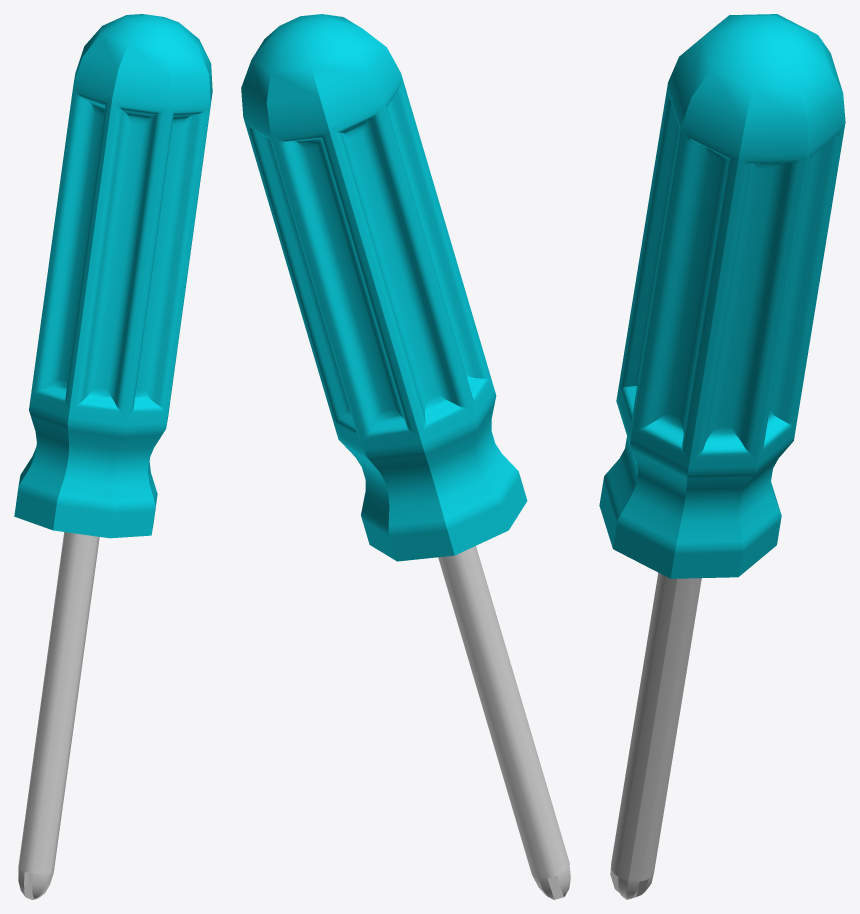
3 views of the same model, side by side, from view 1: azimuth 30°, elevation 25°; view 2: azimuth 150°, elevation 25°; view 3: azimuth 270°, elevation 25° (orthographic). The views are drawn at different scales.
Parts seen in each view (by area): view 1: hose clamp - pipe clamp 5 cm; view 2: hose clamp - pipe clamp 5 cm; view 3: hose clamp - pipe clamp 5 cm.
Boxes of the visible parts, <box> form: hose clamp - pipe clamp 5 cm: <box>14,14,212,899</box>; hose clamp - pipe clamp 5 cm: <box>241,14,570,899</box>; hose clamp - pipe clamp 5 cm: <box>599,14,845,899</box>.
Size of the model in its own units: 0.3646 by 1.17 by 0.2683.
